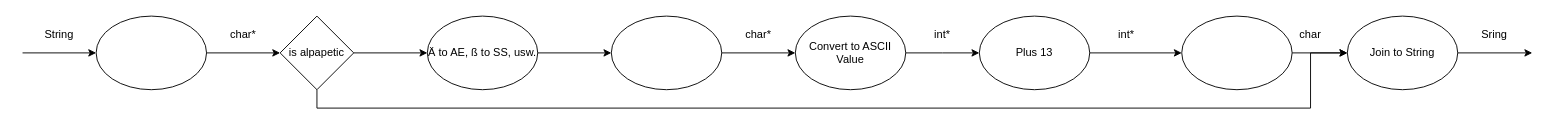
The diagram is 1556 pixels wide and 132 high, and some of its shapes have lost their labels. Each missing label, with the centre of its shape:
Convert to ASCII charcter: the point at 1236,52
Convert to upercase: the point at 666,52
Split into charcters: the point at 151,52
